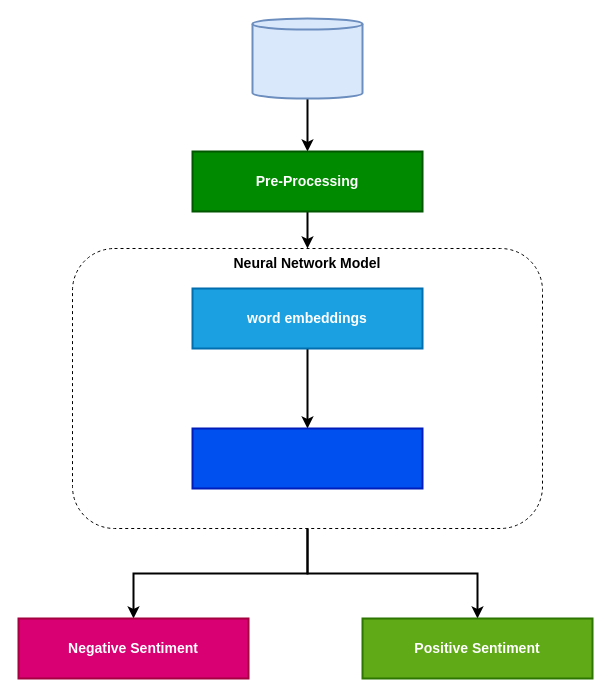
The diagram is 610 pixels wide and 696 high, and some of its shapes have lost their labels. Here are the shapes that lost their labels. From the top down, the centre of each, then its label:
At (x=307, y=58): "Pyspark Engine".
At (x=307, y=458): "classifications".
